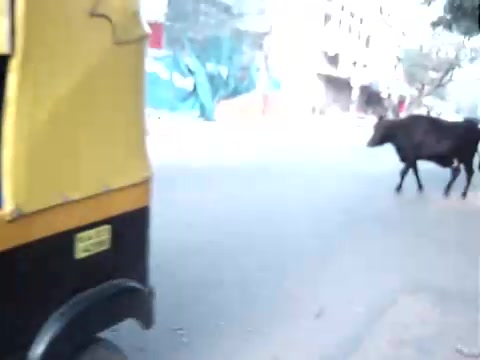cow: (368, 112, 480, 198)
